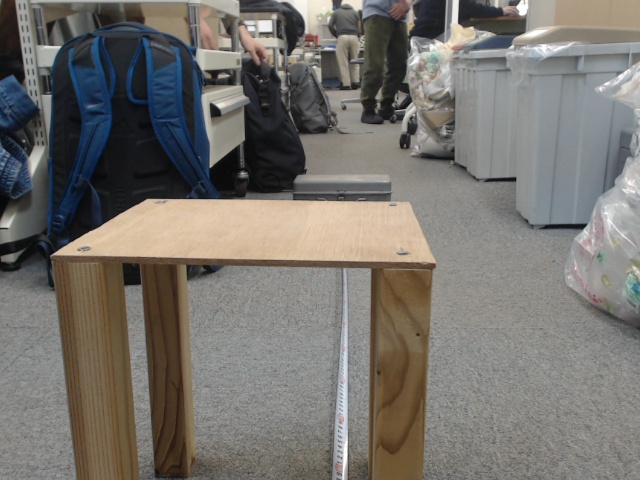desk: (234, 152, 455, 395)
